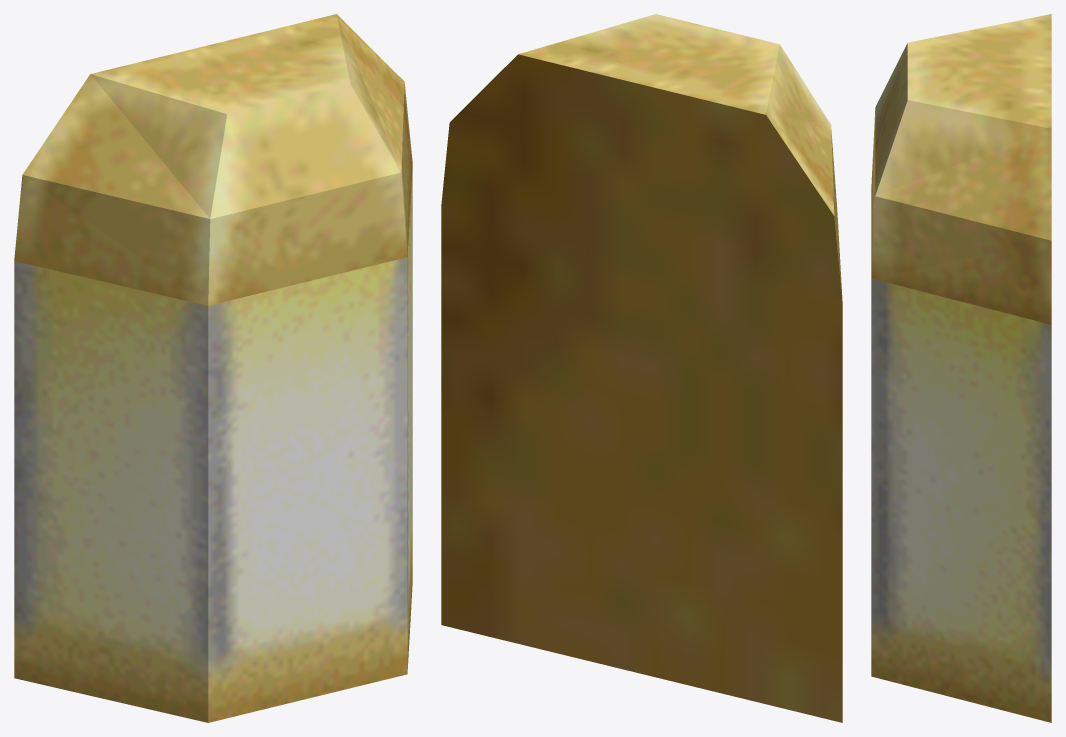
Rendered from Lamp01.obj.
3 views of the same model, side by side, from view 1: azimuth 30°, elevation 25°; view 2: azimuth 150°, elevation 25°; view 3: azimuth 270°, elevation 25° (orthographic). The views are drawn at different scales.
Visible parts, largest first — view 1: Lamp01_Cylinder; view 2: Lamp01_Cylinder; view 3: Lamp01_Cylinder.
Boxes of the visible parts, x1,y1,x2,y2 form: Lamp01_Cylinder: [14, 14, 412, 722]; Lamp01_Cylinder: [441, 14, 842, 722]; Lamp01_Cylinder: [871, 14, 1051, 722].
Bounding box in the file's own units: 1.2 × 1.68 × 0.4921.
